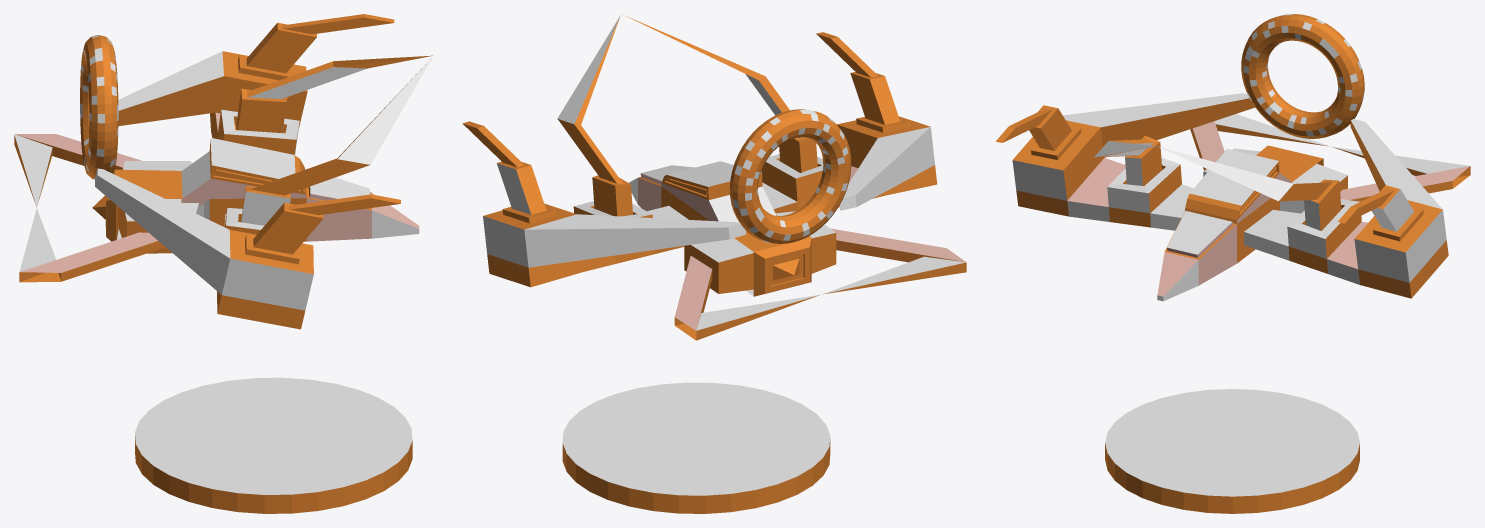
Rendered from Starship.fbx.
The picture shows the model from 3 angles, left to right: view 1: azimuth 30°, elevation 25°; view 2: azimuth 150°, elevation 25°; view 3: azimuth 270°, elevation 25°; orthographic projection. The views are drawn at different scales.
Visible parts, largest first — view 1: toon_base, toon_base.001; view 2: toon_base, toon_base.001; view 3: toon_base, toon_base.001.
Boxes of the visible parts, box(x1,y1,x2,y2) form: toon_base: box(14, 14, 432, 329); toon_base.001: box(135, 377, 412, 513); toon_base: box(462, 15, 966, 340); toon_base.001: box(562, 382, 830, 513); toon_base: box(996, 14, 1470, 301); toon_base.001: box(1105, 389, 1359, 513).
Bounding box in the file's own units: 8712 × 7766 × 8717.
